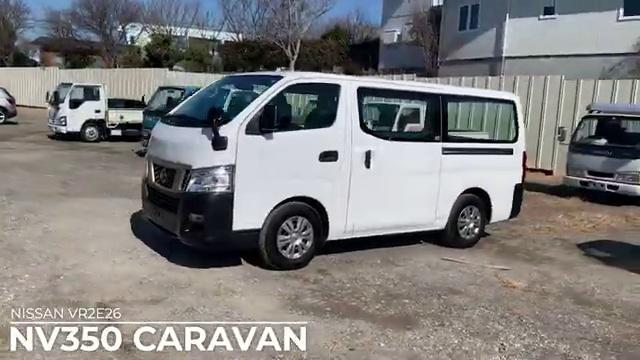Van: (139, 70, 530, 260)
